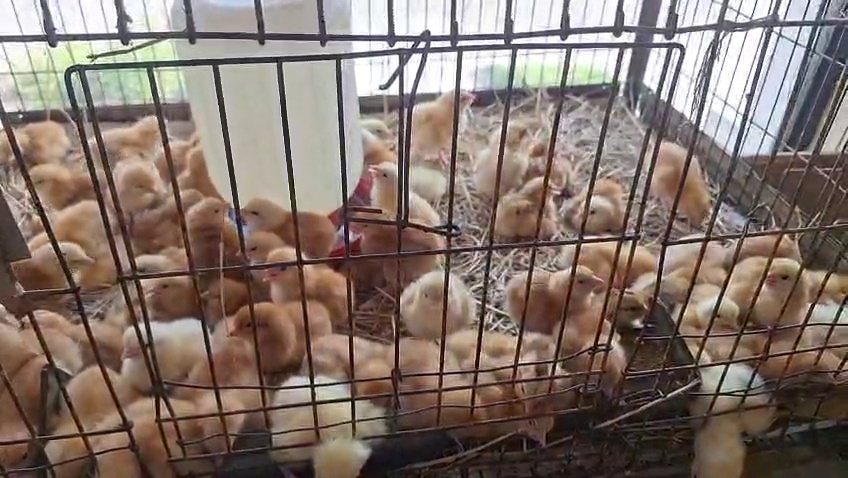Pollo: (264, 367, 398, 478), (178, 337, 276, 462), (683, 356, 782, 478), (40, 362, 142, 477), (402, 331, 486, 441), (502, 246, 608, 333), (229, 284, 334, 371), (257, 245, 361, 332), (20, 279, 135, 356), (489, 314, 588, 401), (544, 320, 643, 407), (106, 391, 205, 478), (310, 316, 409, 403), (123, 309, 221, 396), (638, 135, 727, 223), (391, 262, 480, 341), (358, 197, 447, 275), (741, 248, 819, 335), (499, 328, 583, 408), (418, 74, 494, 161), (99, 130, 178, 213), (475, 104, 550, 191), (0, 345, 51, 471), (29, 194, 123, 262), (492, 174, 574, 247), (480, 391, 578, 451), (356, 109, 445, 174), (183, 188, 257, 261), (572, 231, 675, 283), (685, 279, 765, 339), (668, 225, 751, 282), (776, 336, 848, 398), (567, 172, 641, 232), (21, 148, 95, 206), (146, 176, 206, 245), (608, 281, 681, 337), (364, 161, 453, 206), (137, 261, 208, 316), (251, 193, 353, 229), (0, 115, 68, 168), (215, 258, 270, 321), (245, 221, 300, 284), (67, 117, 152, 154), (518, 137, 573, 189), (8, 249, 83, 286), (161, 124, 211, 176), (186, 146, 236, 197), (353, 94, 402, 143), (126, 248, 189, 280)
